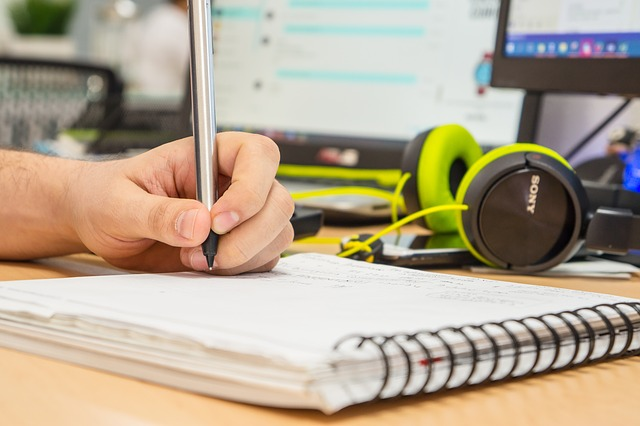headphones: (401, 125, 640, 274)
